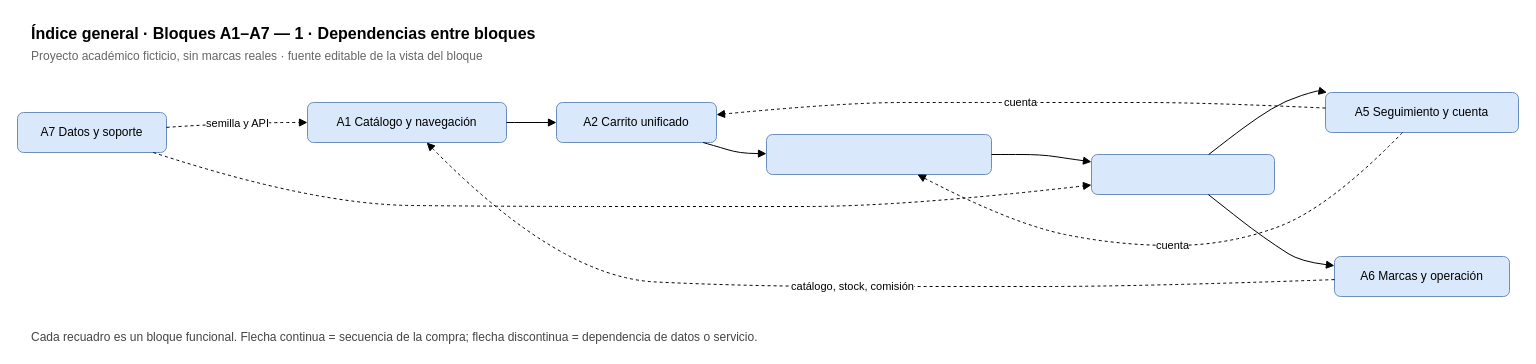
This 1536x364 diagram has some shape labels left out. Each missing label, with the centre of its shape:
A3 Checkout y pago simulado: the point at 879,154
A4 Pedido y subpedidos: the point at 1182,174
